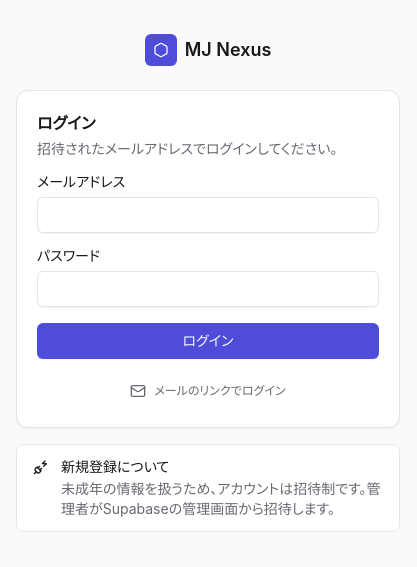
Test: Supabase接続モード › 認証エラーは日本語メッセージで表示する
This screenshot has width=417, height=567.
Type "a@example.invalid" into the field labelled "メールアドレス" at point(208, 215), box [37, 197, 379, 233]
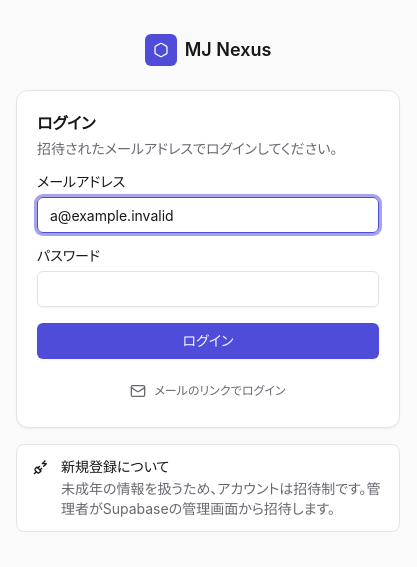
Type "password123" into the password field labelled "パスワード" at point(208, 289), box [37, 271, 379, 307]
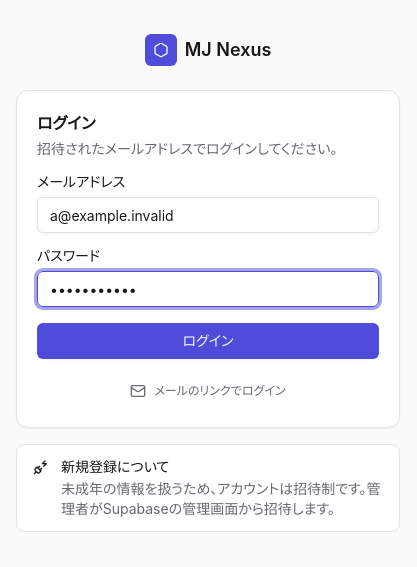
Click the button "ログイン" at point(208, 341), box [37, 323, 379, 359]
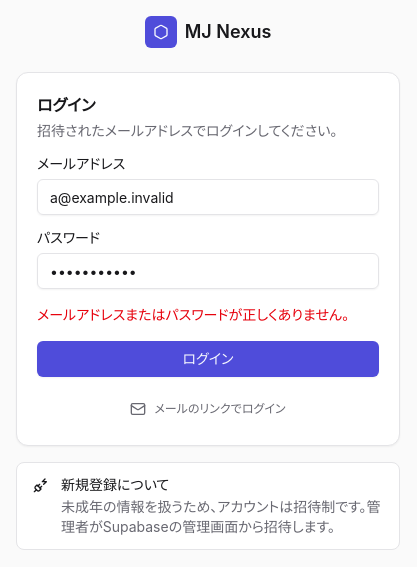
Check: the message shows "メールアドレスまたはパスワードが正しくありません", box [37, 306, 349, 323]
